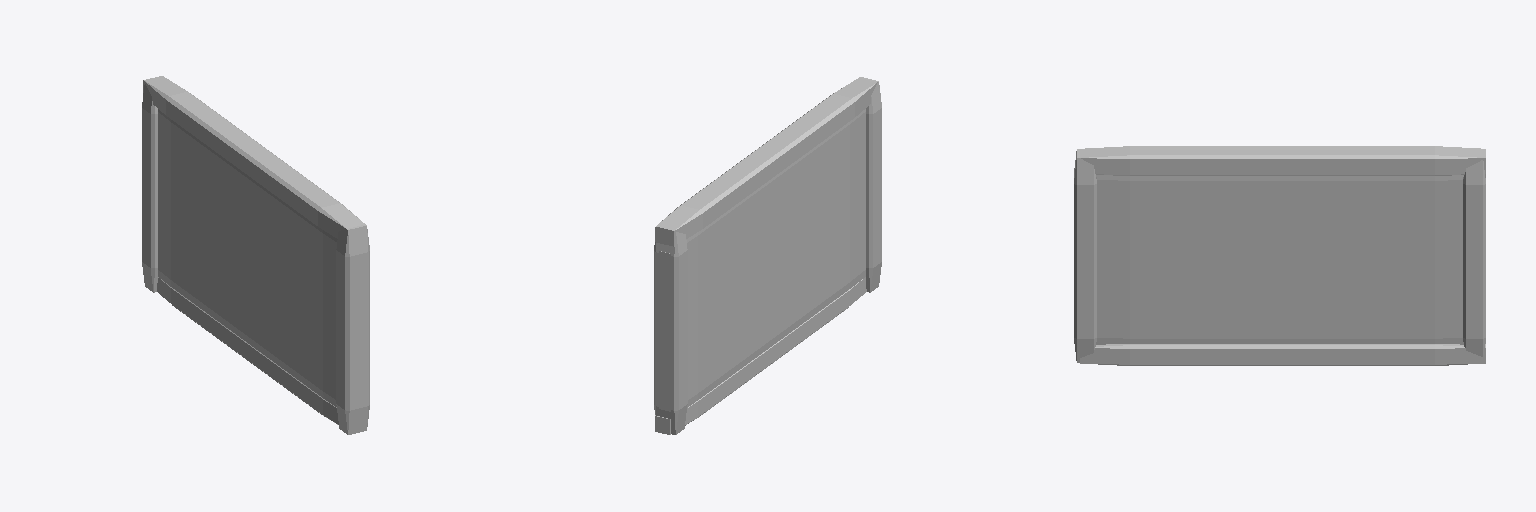
File: PictureFrame.obj
The picture shows the model from 3 angles: view 1: azimuth 30°, elevation 25°; view 2: azimuth 150°, elevation 25°; view 3: azimuth 270°, elevation 25°; orthographic projection.
Parts seen in each view (by area): view 1: block_rounded_49, block_rounded_55, block_rounded_56, block_rounded_54, block_rounded_57; view 2: block_rounded_49, block_rounded_55, block_rounded_57, block_rounded_54, block_rounded_56; view 3: block_rounded_49, block_rounded_55, block_rounded_54, block_rounded_56, block_rounded_57.
Part boxes in pixels (x1,y1,x2,y2): block_rounded_49: (158,98,337,416); block_rounded_55: (143,76,364,238); block_rounded_56: (336,224,369,434); block_rounded_54: (157,277,338,424); block_rounded_57: (142,84,157,292); block_rounded_49: (659,95,865,418); block_rounded_55: (655,78,877,246); block_rounded_57: (654,232,687,434); block_rounded_54: (655,277,866,434); block_rounded_56: (859,77,881,292); block_rounded_49: (1096,148,1463,344); block_rounded_55: (1080,146,1485,175); block_rounded_54: (1080,344,1485,365); block_rounded_56: (1074,149,1096,362); block_rounded_57: (1463,160,1485,356).
Bounding box in the file's own units: 0.5 × 4 × 7.1.